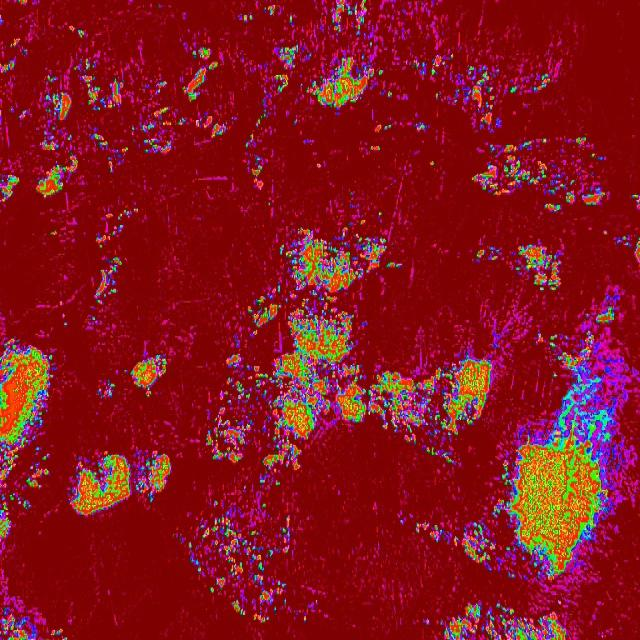fire: (203, 227, 495, 472), (491, 438, 634, 572), (175, 514, 293, 630), (0, 336, 57, 542), (550, 301, 633, 441), (472, 136, 614, 215), (68, 450, 174, 516), (454, 66, 553, 136), (472, 236, 564, 298), (183, 44, 239, 140), (38, 70, 78, 199), (308, 50, 394, 110), (440, 600, 569, 640), (0, 575, 68, 640), (412, 516, 494, 568), (244, 94, 274, 210), (138, 78, 180, 158), (121, 351, 170, 399), (94, 208, 147, 250), (83, 60, 126, 109), (92, 258, 123, 324), (90, 127, 130, 175), (292, 118, 323, 170), (273, 40, 302, 92), (326, 0, 367, 34), (411, 48, 459, 76), (251, 478, 284, 512), (297, 592, 334, 622), (1, 36, 30, 72), (628, 185, 640, 271), (1, 170, 21, 209), (95, 375, 117, 401), (339, 192, 362, 214), (11, 105, 31, 130), (412, 120, 436, 138), (599, 289, 626, 305), (69, 22, 90, 42), (373, 124, 403, 138), (59, 294, 70, 330), (263, 6, 284, 22), (367, 142, 388, 158), (17, 0, 47, 11), (206, 491, 222, 510), (615, 231, 631, 249), (373, 205, 387, 224), (533, 330, 547, 349), (427, 155, 441, 171), (241, 11, 257, 24), (435, 91, 445, 109), (424, 618, 434, 628), (180, 15, 190, 23), (287, 16, 298, 22), (50, 230, 60, 236), (368, 42, 375, 46)
